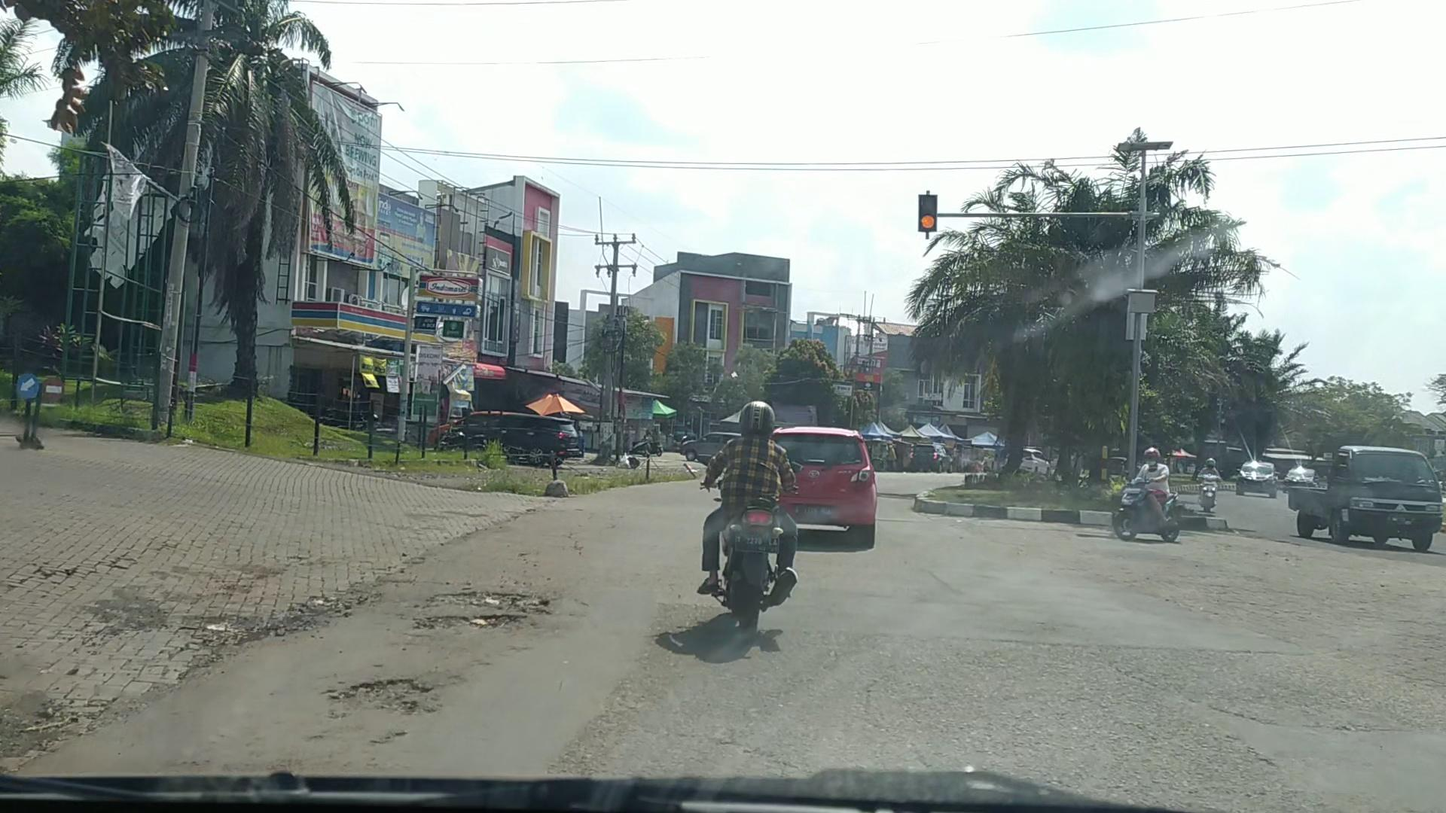pothole: (337, 677, 439, 720), (440, 591, 557, 616), (417, 612, 531, 635)
